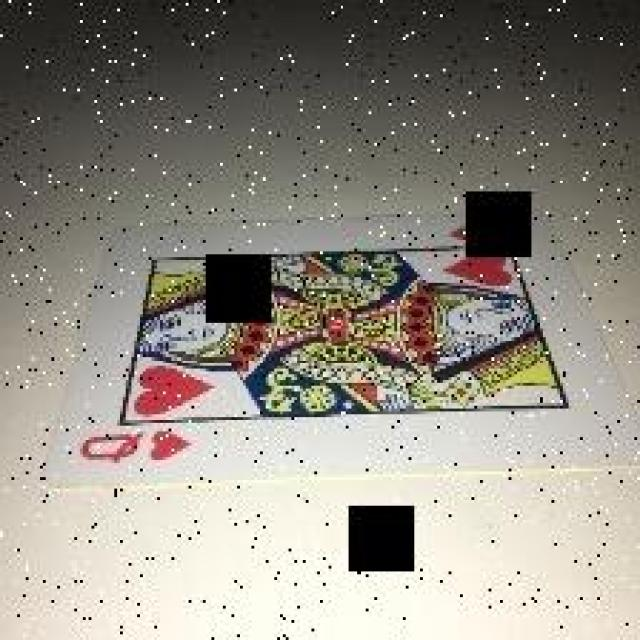Queen of hearts: (23, 195, 606, 482)
